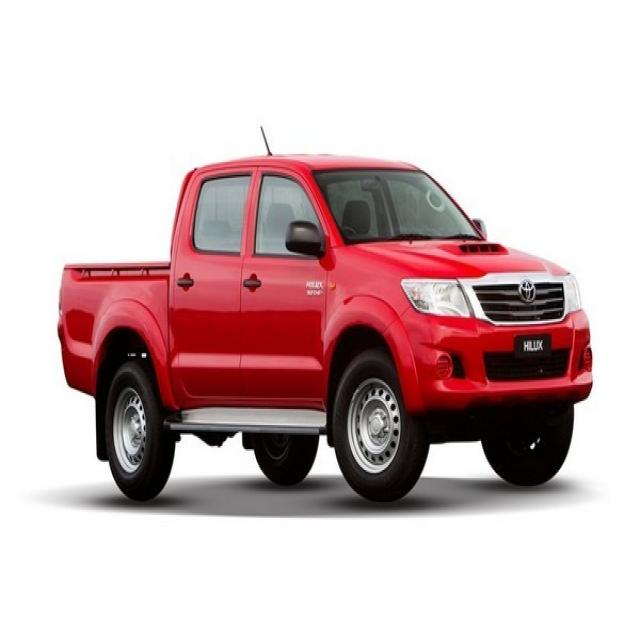light_vehicle: (51, 122, 592, 510)
